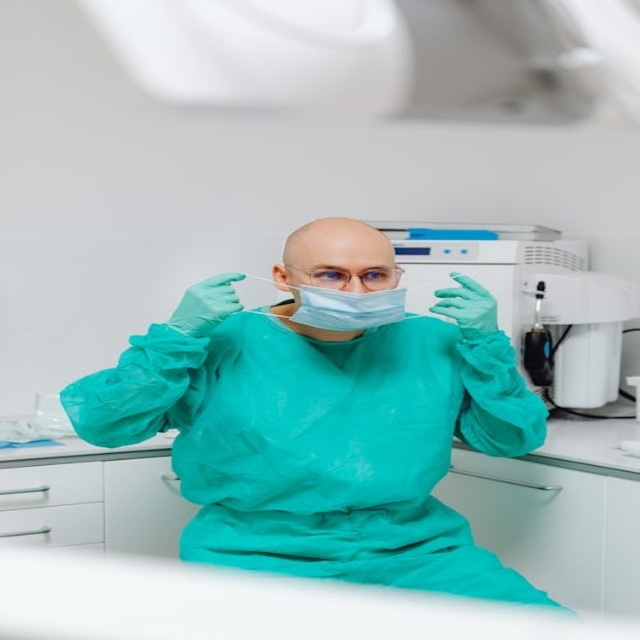Gafas: (287, 263, 405, 291)
Guantes: (165, 273, 248, 338), (430, 272, 500, 338)
Mascara: (285, 279, 408, 331)
